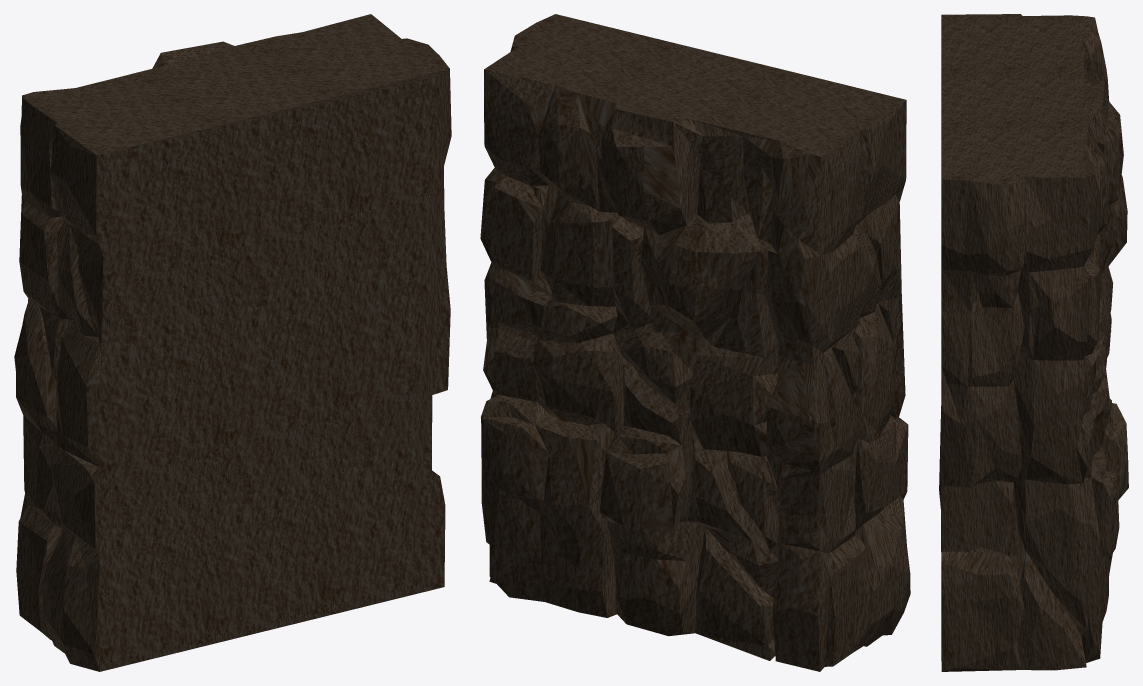
File: cave-wall3_bkp.glb
3 renders of one model, left to right at view 1: azimuth 30°, elevation 25°; view 2: azimuth 150°, elevation 25°; view 3: azimuth 270°, elevation 25°, orthographic. The views are drawn at different scales.
Parts seen in each view (by area): view 1: Cube.002; view 2: Cube.002; view 3: Cube.002.
Part boxes in pixels (box(x1,y1,x2,y2)): Cube.002: box(14, 14, 451, 671); Cube.002: box(480, 14, 910, 671); Cube.002: box(939, 14, 1128, 671).
Bounding box in the file's own units: 4.73 × 6.11 × 2.09.
Materials: 1 (1 with a texture image).
